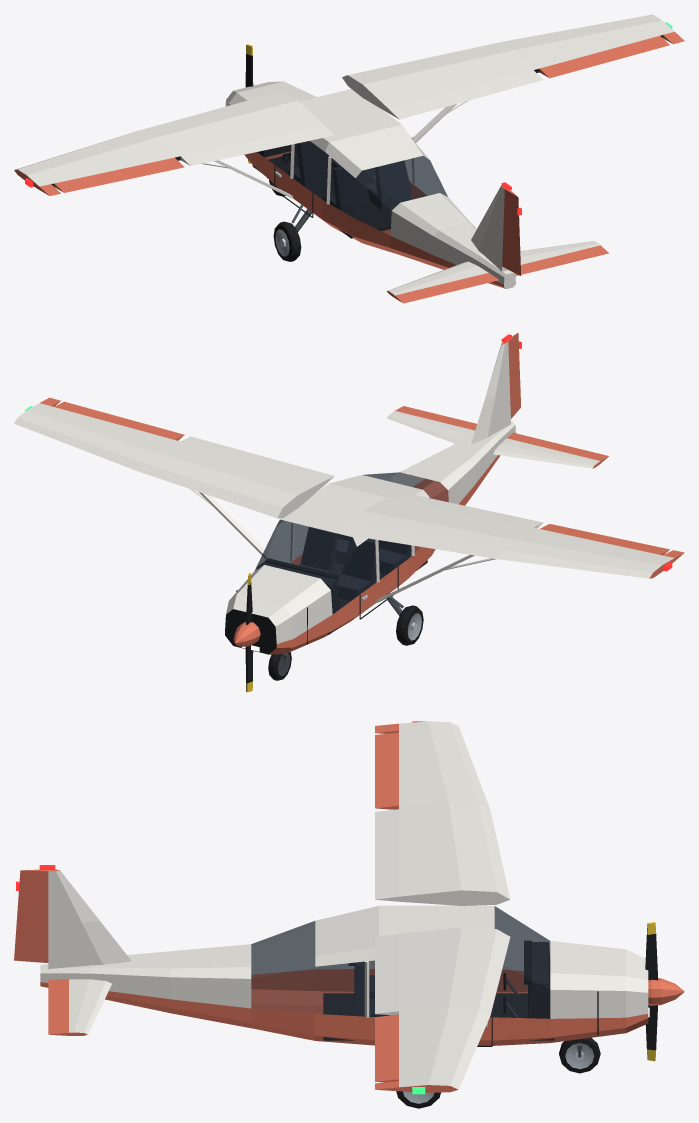
File: plane_prop.glb
The picture shows the model from 3 angles, top to bottom: view 1: azimuth 30°, elevation 25°; view 2: azimuth 150°, elevation 25°; view 3: azimuth 270°, elevation 25°; orthographic projection. The views are drawn at different scales.
Parts seen in each view (by area): view 1: Body, Elevator, Aileron_R, Aileron_L, Rudder, Wheel_RL; view 2: Body, Elevator, Prop, Aileron_R, Aileron_L, Wheel_RL, Rudder; view 3: Body, Rudder, Prop, Aileron_L, Aileron_R, Elevator, Wheel_F.
Boxes of the visible parts, x1,y1,x2,y2 form: Body: [14, 14, 684, 297]; Elevator: [394, 245, 608, 303]; Aileron_R: [539, 35, 669, 78]; Aileron_L: [54, 157, 184, 192]; Rudder: [502, 189, 520, 275]; Wheel_RL: [273, 221, 301, 261]; Body: [14, 334, 684, 665]; Elevator: [395, 406, 608, 463]; Prop: [233, 573, 260, 692]; Aileron_R: [55, 401, 184, 440]; Aileron_L: [540, 524, 669, 555]; Wheel_RL: [396, 605, 423, 645]; Rudder: [507, 333, 520, 418]; Body: [16, 721, 649, 1094]; Rudder: [14, 869, 48, 962]; Prop: [645, 922, 684, 1061]; Aileron_L: [375, 732, 398, 809]; Aileron_R: [375, 1014, 398, 1082]; Elevator: [48, 979, 68, 1035]; Wheel_F: [559, 1037, 600, 1073].
Size of the model in its own units: 10.91 by 2.86 by 8.42.
